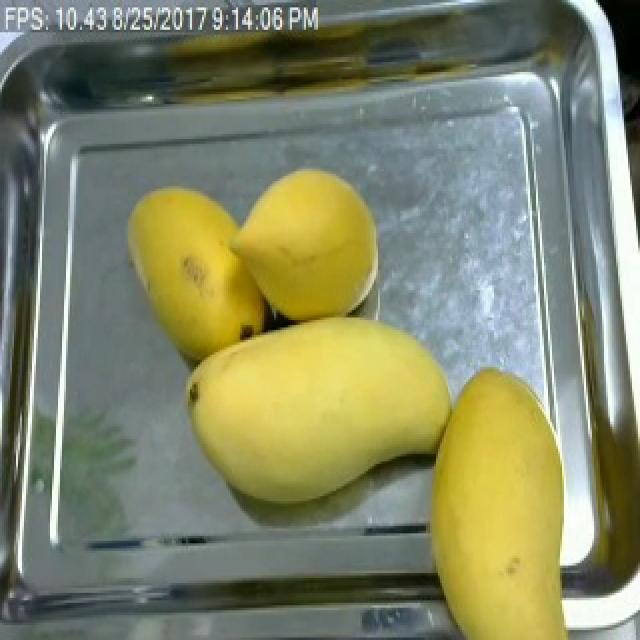fruit: (176, 305, 464, 516), (416, 359, 584, 640), (118, 174, 276, 372), (224, 159, 394, 330)
